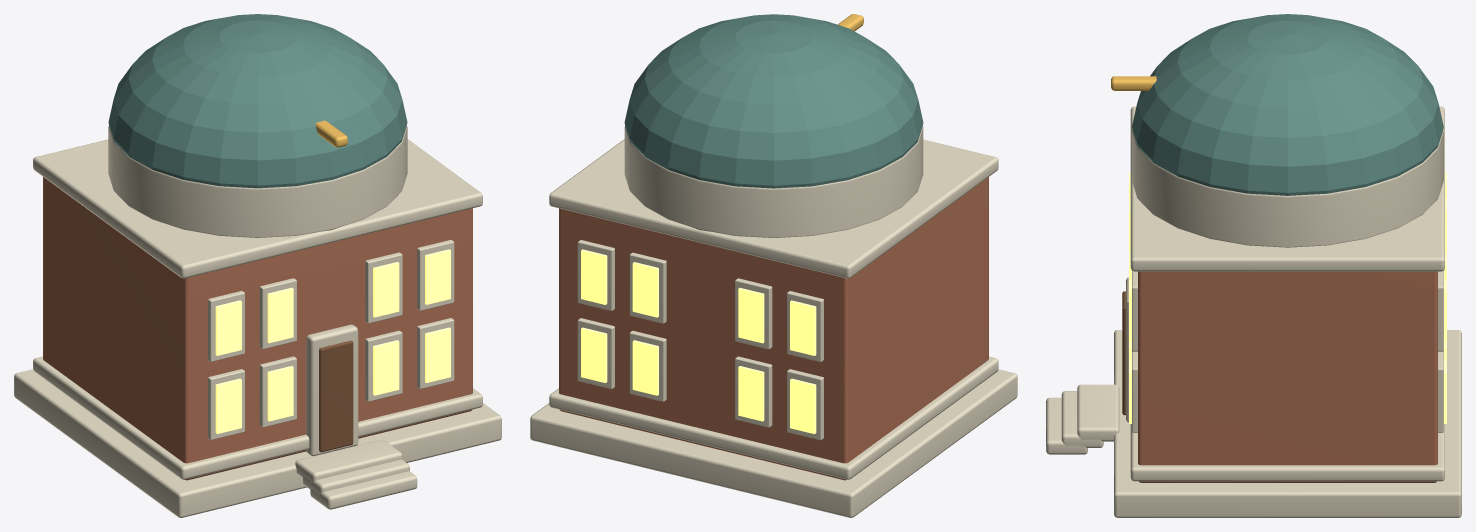
File: SM_Observatory_Campus.fbx
3 views of the same model, side by side, from view 1: azimuth 30°, elevation 25°; view 2: azimuth 150°, elevation 25°; view 3: azimuth 270°, elevation 25° (orthographic). The views are drawn at different scales.
Visible parts, largest first — view 1: SM_Observatory_Campus; view 2: SM_Observatory_Campus; view 3: SM_Observatory_Campus.
Part boxes in pixels (left/top/right/bottom): SM_Observatory_Campus: left=14, top=14, right=501, bottom=517; SM_Observatory_Campus: left=530, top=14, right=1017, bottom=517; SM_Observatory_Campus: left=1046, top=14, right=1461, bottom=517.
Size of the model in its own units: 325 by 347 by 370.
